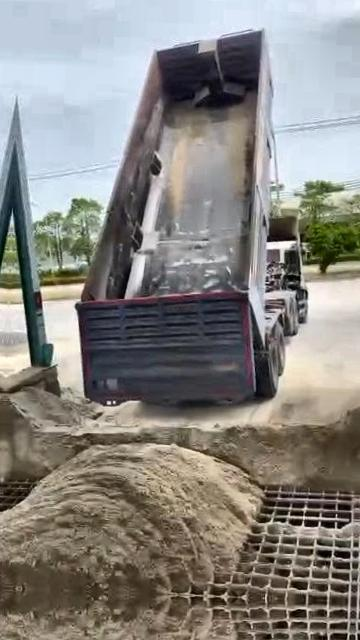sand: (0, 444, 261, 594), (4, 384, 360, 488), (263, 520, 356, 545)
